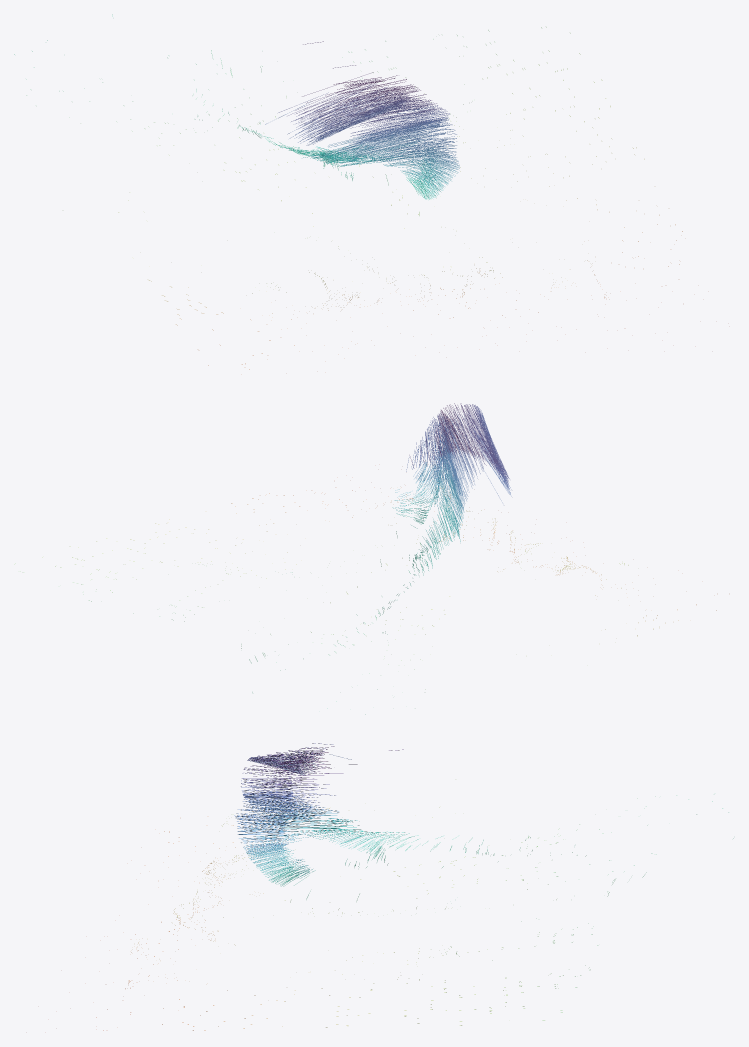
File: backward.glb
3 renders of one model, top to bottom at view 1: azimuth 30°, elevation 25°; view 2: azimuth 150°, elevation 25°; view 3: azimuth 270°, elevation 25°, orthographic. The views are drawn at different scales.
Visible parts, largest first — view 1: flow_lines; view 2: flow_lines; view 3: flow_lines.
Boxes of the visible parts, x1,y1,x2,y2 form: flow_lines: (14, 14, 682, 369); flow_lines: (14, 403, 716, 714); flow_lines: (96, 743, 733, 1030).
Bounding box in the file's own units: 2.6 × 0.9281 × 3.17.
